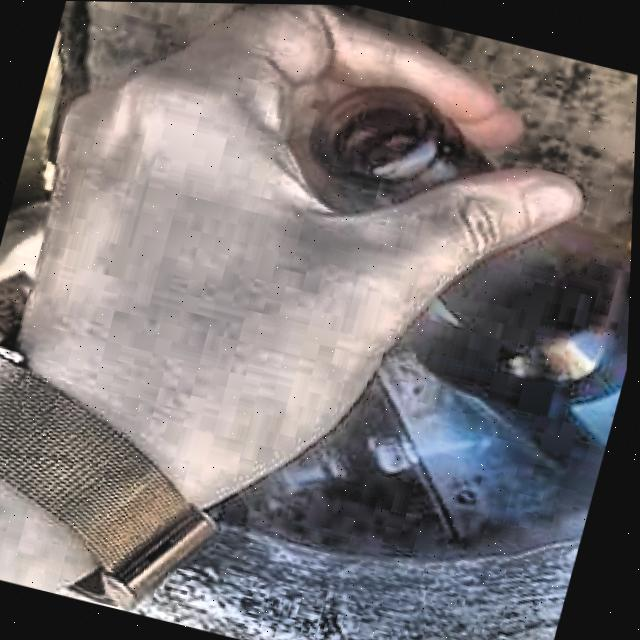glass: (403, 224, 633, 443), (313, 87, 494, 211)
